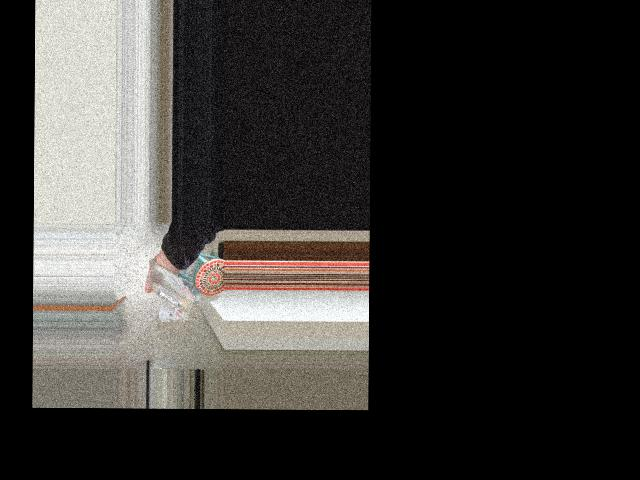cheese: (141, 255, 217, 328)
